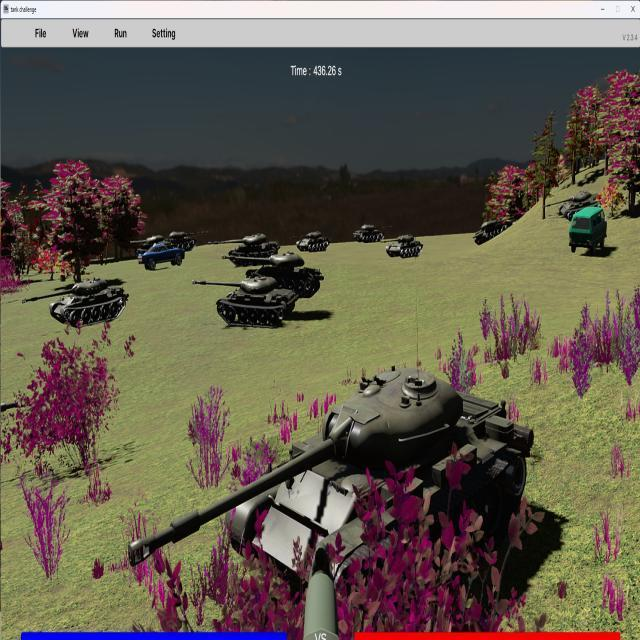Tank: (124, 365, 546, 629), (192, 276, 297, 327), (22, 278, 129, 328), (222, 252, 325, 299), (211, 233, 280, 265), (542, 189, 604, 221), (473, 216, 516, 246), (379, 235, 424, 258), (161, 231, 207, 251), (292, 231, 330, 253), (352, 224, 391, 243)
car: (568, 205, 608, 254), (140, 241, 185, 270)
